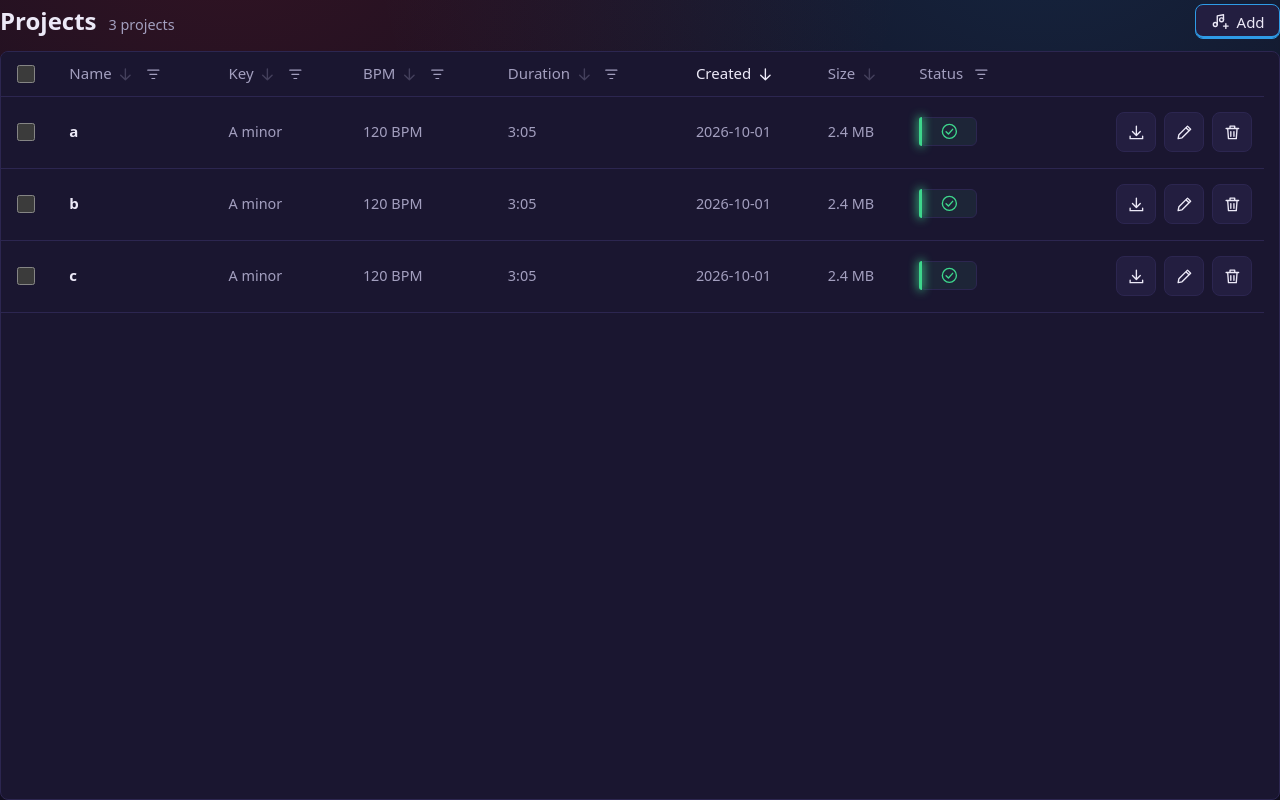
Test: Projects table › bulk delete: one confirm, one DELETE per name in order, failures in a banner
The image size is (1280, 800).
Expected: the link "a" is shown, [69,121,78,141]
Expected: the button "Delete selected" is not shown
Click the checkbox named "Select a" at (26, 132), box [17,123,35,141]
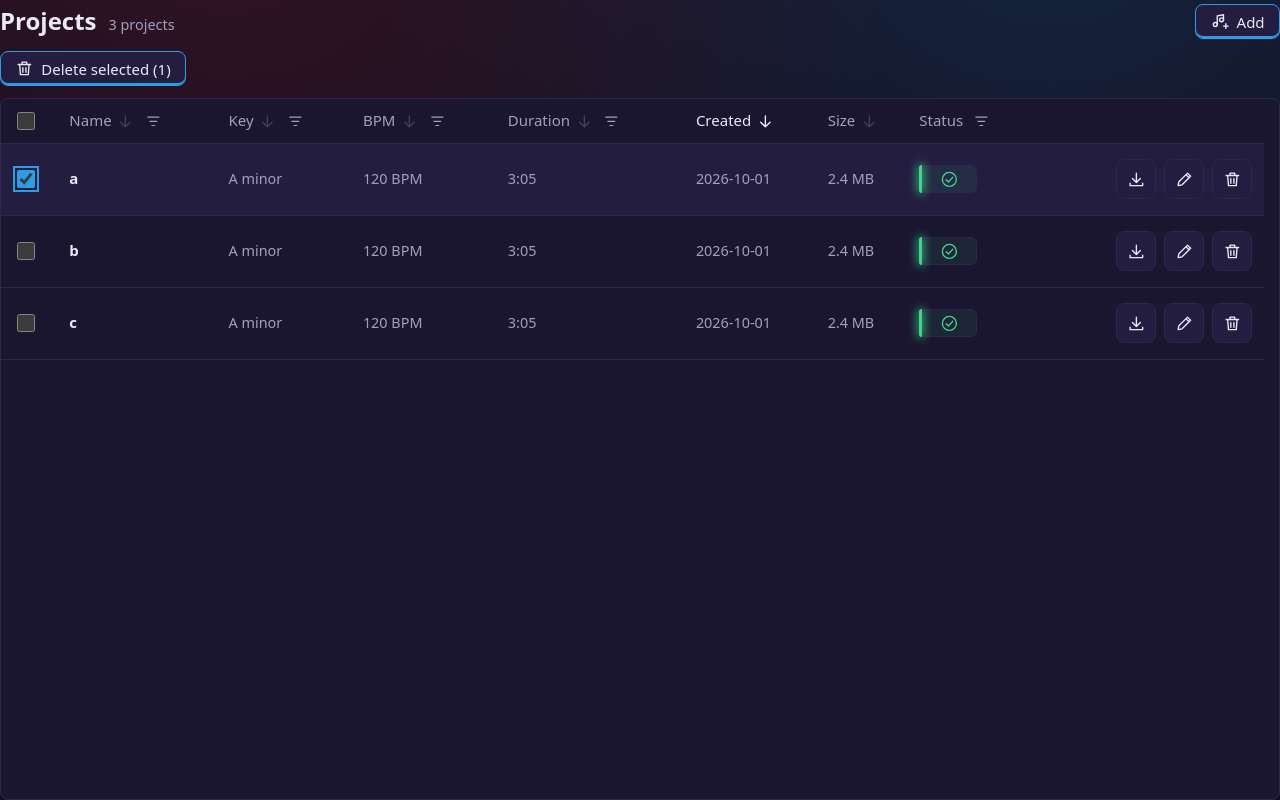
Click the checkbox named "Select b" at (26, 251), box [17,242,35,260]
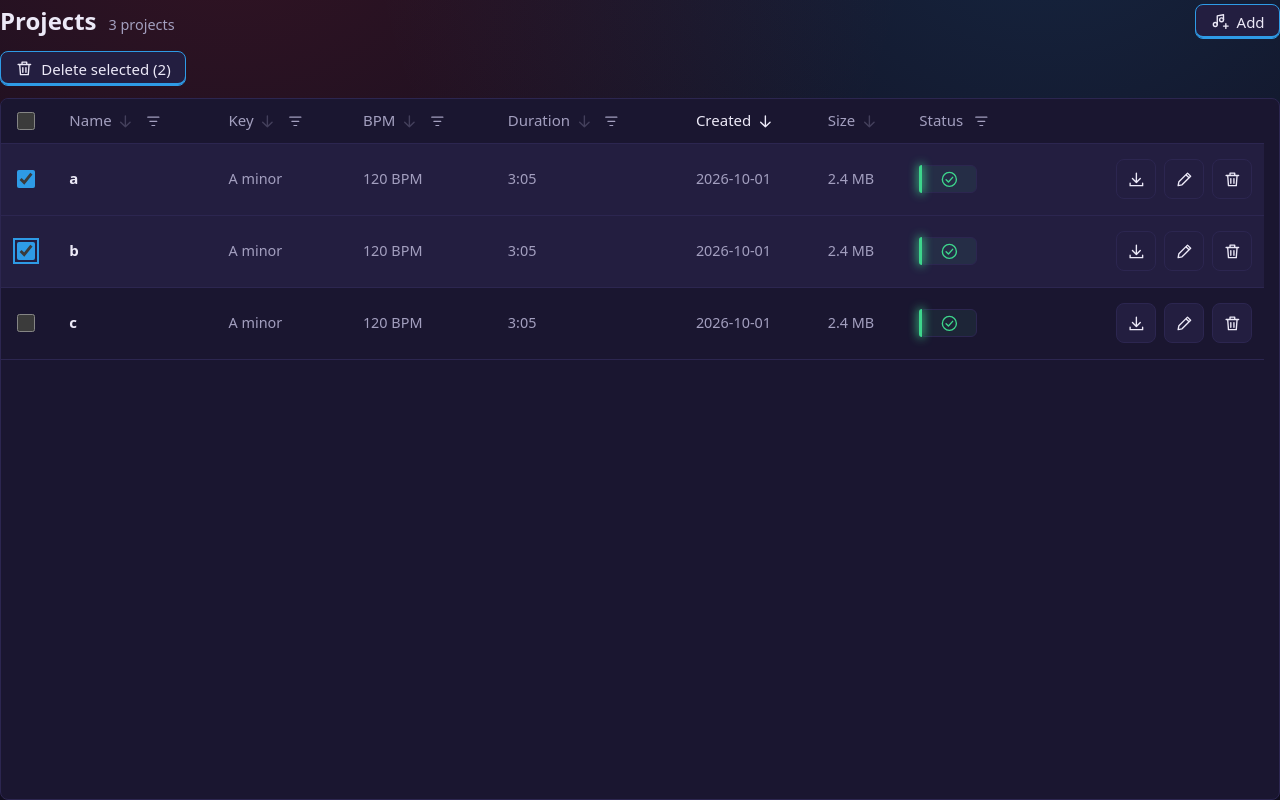
Click the button "Delete selected (2)" at (93, 69), box [0,51,186,86]
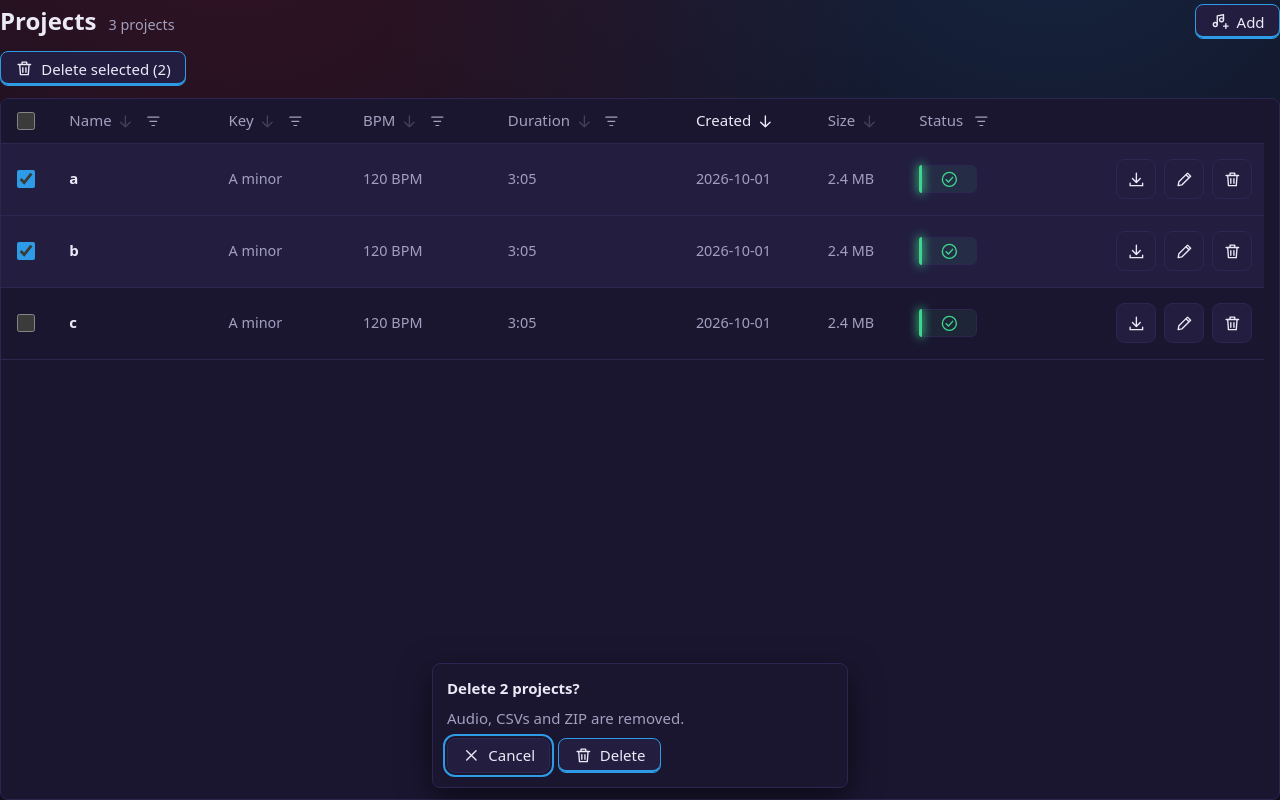
Click the button "Delete" at (610, 755), box [558,738,661,773]
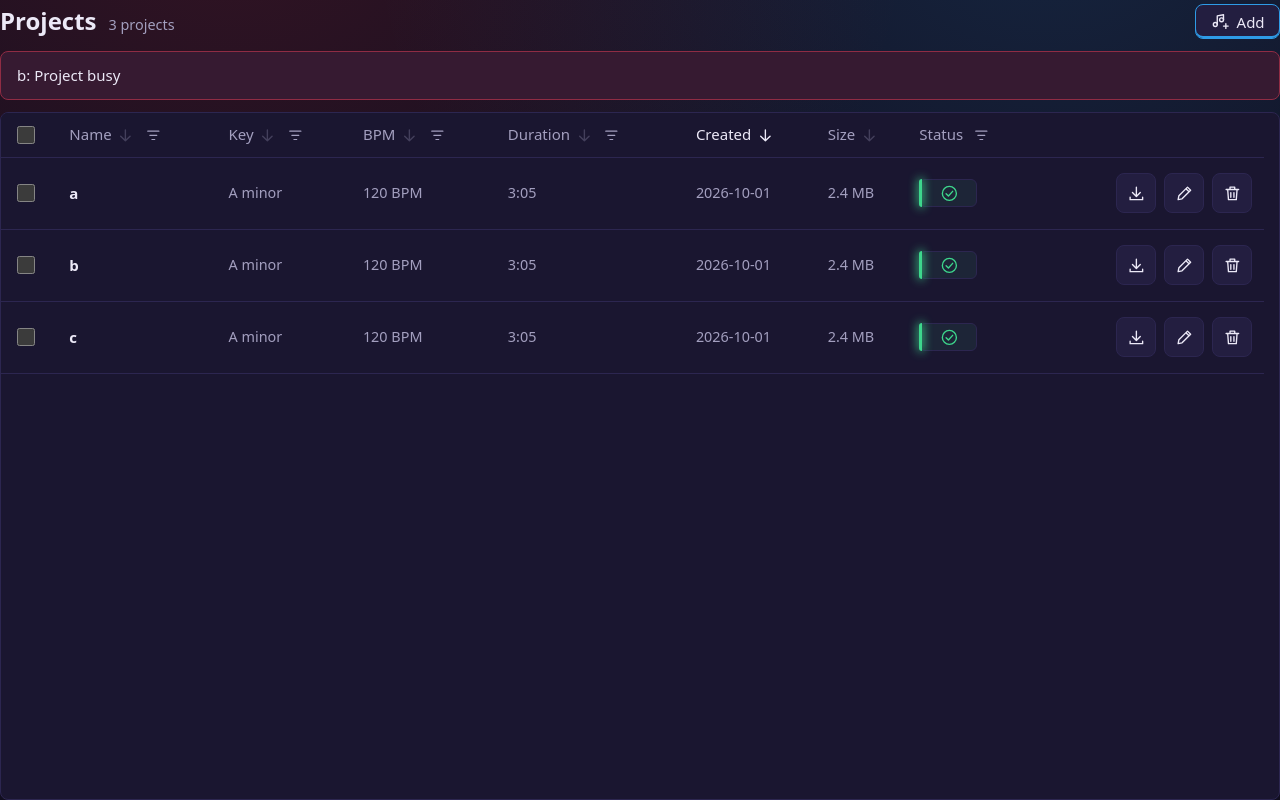
Expected: the message "b: Project busy" does not show "a:", [0,51,1279,100]
Expected: the message "b: Project busy" is shown, [0,51,1279,100]
